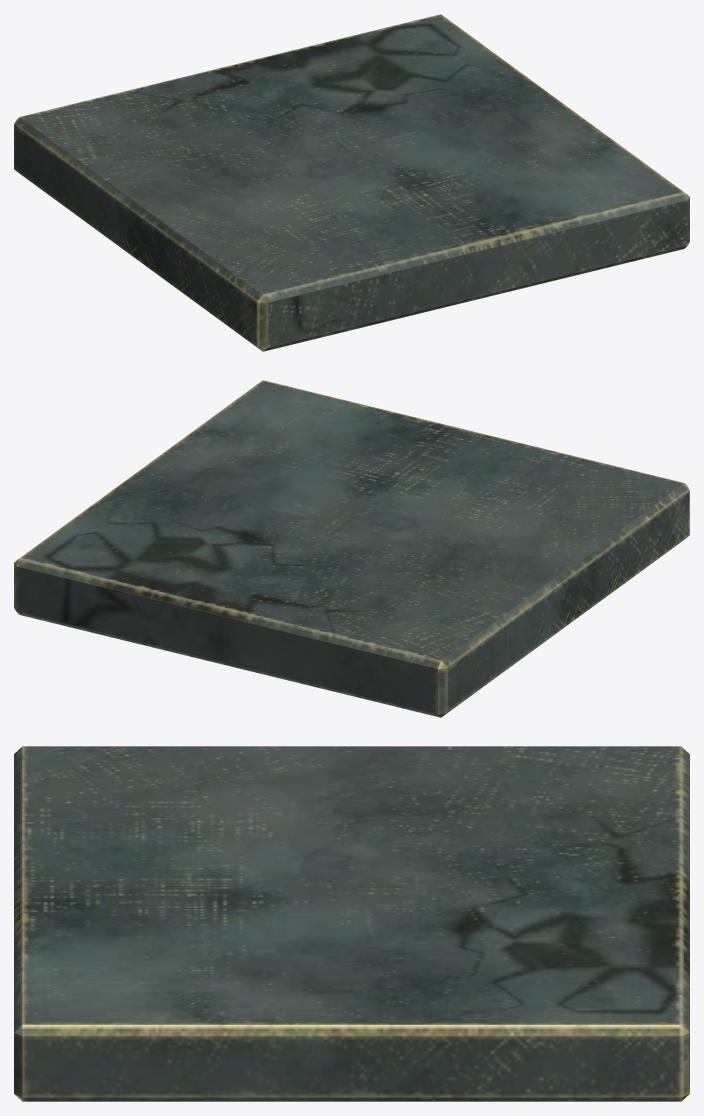
File: step-01.glb
The picture shows the model from 3 angles, top to bottom: view 1: azimuth 30°, elevation 25°; view 2: azimuth 150°, elevation 25°; view 3: azimuth 270°, elevation 25°; orthographic projection. The views are drawn at different scales.
Parts seen in each view (by area): view 1: Step_01; view 2: Step_01; view 3: Step_01.
Part boxes in pixels (x1,y1,x2,y2): Step_01: [14, 14, 689, 351]; Step_01: [14, 380, 689, 717]; Step_01: [14, 746, 689, 1101].
Size of the model in its own units: 2 by 0.25 by 2.
Materials: 1 (1 with a texture image).
